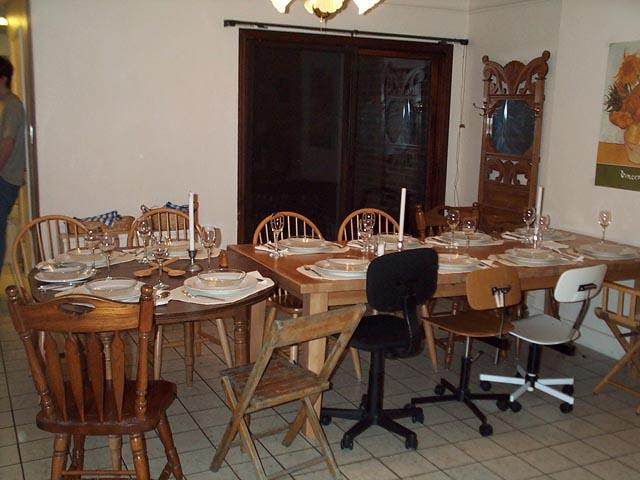table: (228, 226, 640, 435), (28, 243, 276, 474)
